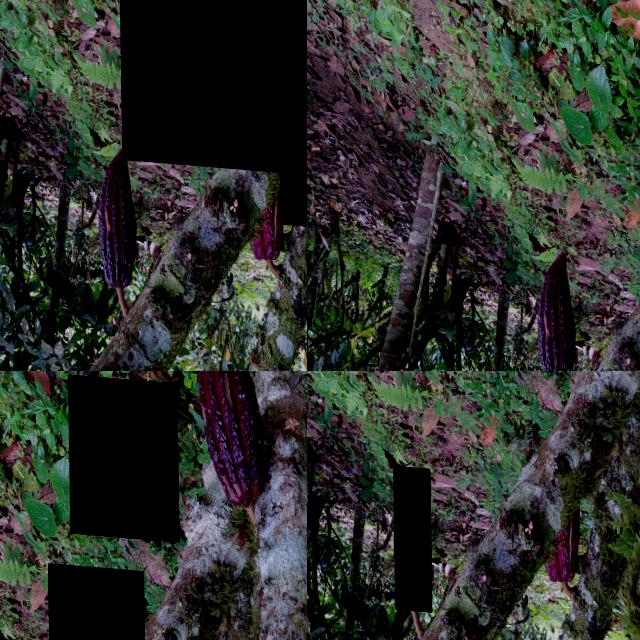Monilia: (67, 371, 178, 535)
Sana: (117, 0, 279, 165), (47, 558, 146, 640), (128, 371, 204, 477), (392, 462, 431, 608), (448, 222, 480, 368), (542, 491, 578, 589), (492, 166, 524, 231), (475, 169, 500, 235), (453, 150, 479, 206)
